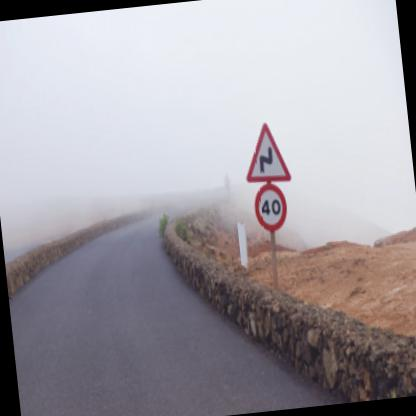speedlimit: (250, 178, 288, 228)
